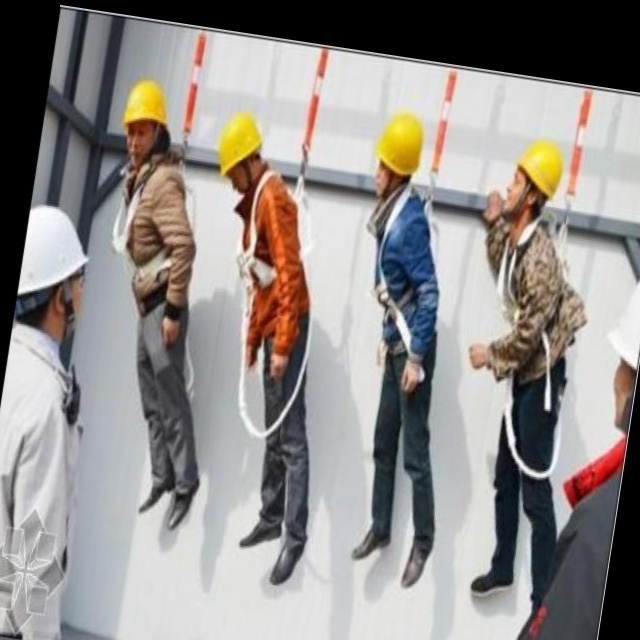Con_Casco: (497, 138, 568, 237), (372, 112, 425, 200)
